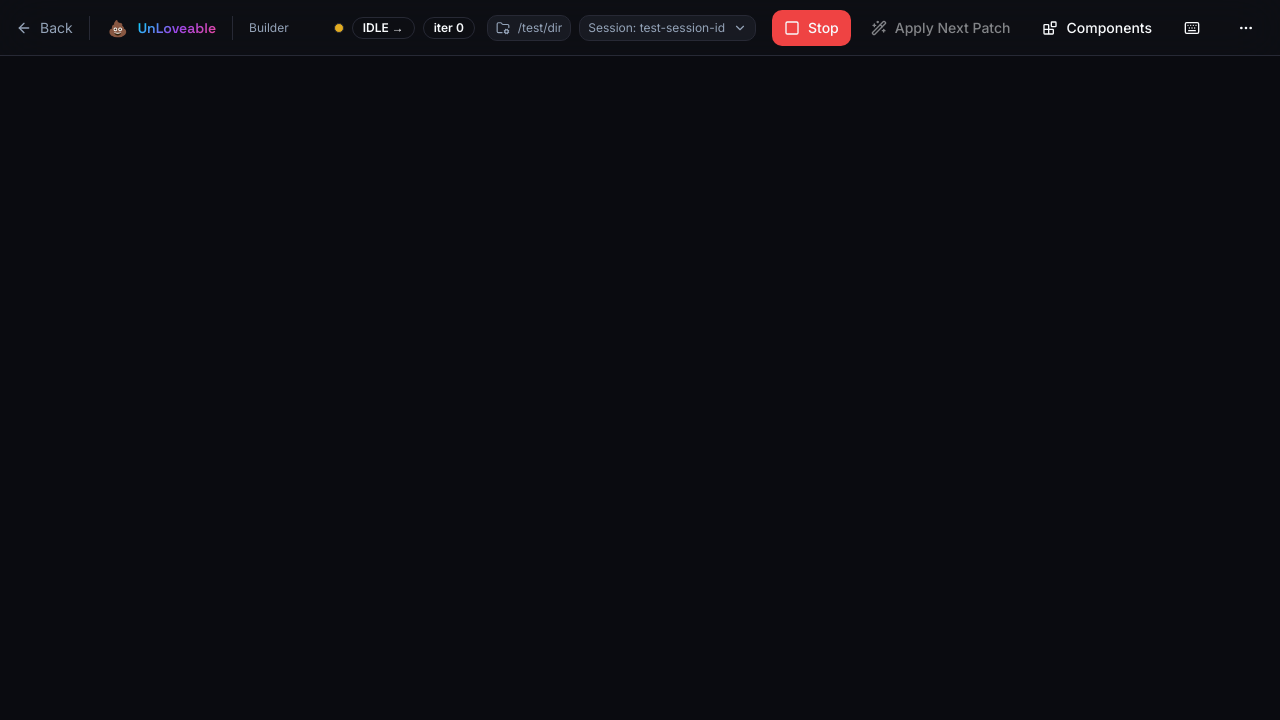
Test case: BuilderHeader Exit Logic › shows exit confirmation dialog when Back is clicked while loop is running
The image size is (1280, 720).
Click the button "Back" at (44, 28), box [16,18,73,38]
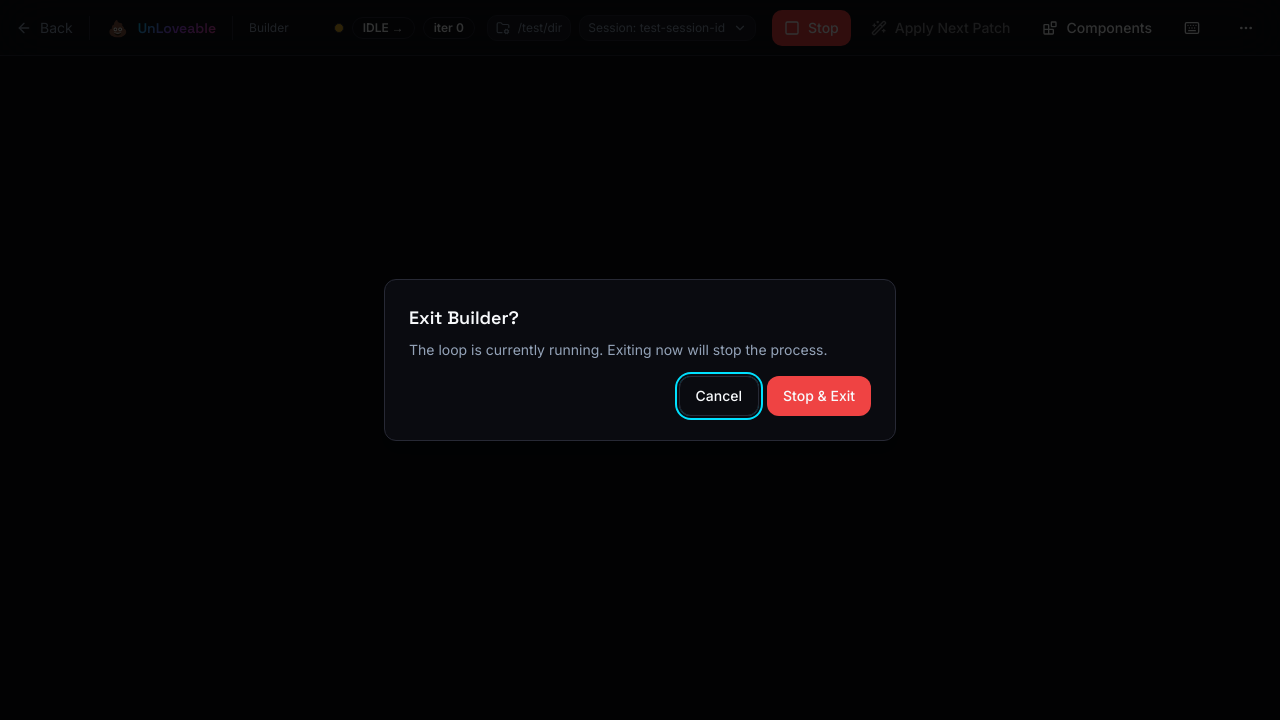
Expected: the heading "Exit Builder?" is shown, [409,306,519,329]
